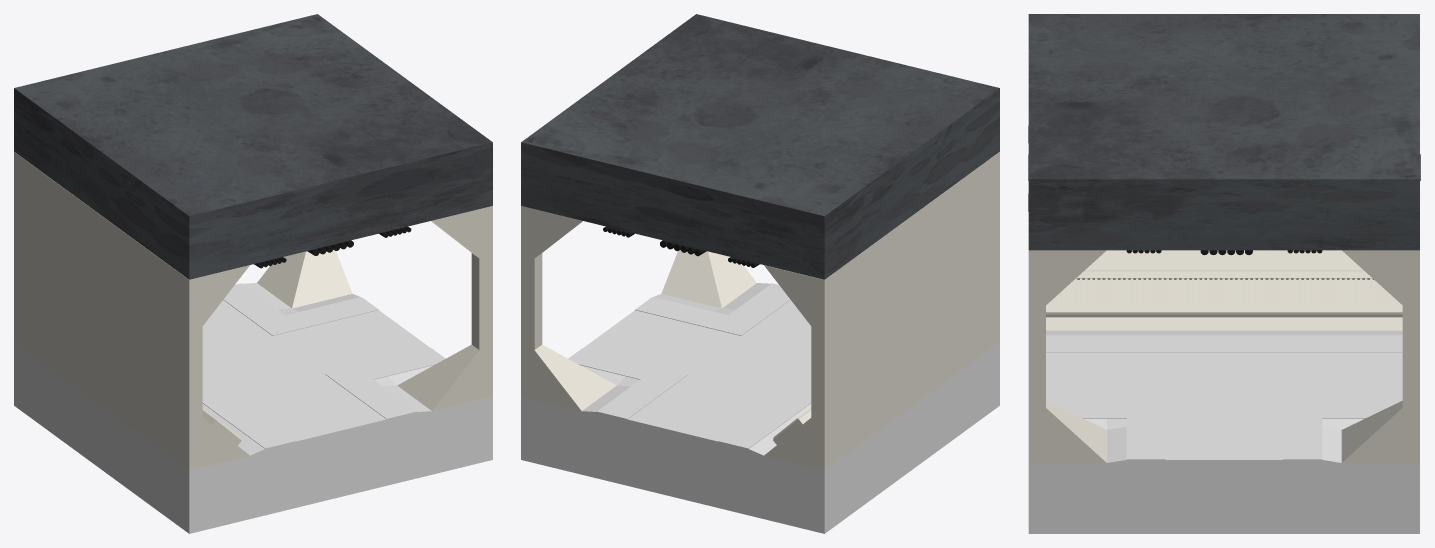
Rendered from Hallway Connector3.fbx.
The picture shows the model from 3 angles, left to right: view 1: azimuth 30°, elevation 25°; view 2: azimuth 150°, elevation 25°; view 3: azimuth 270°, elevation 25°; orthographic projection. The views are drawn at different scales.
Parts seen in each view (by area): view 1: Cube.015, Cube.046, Cube.029, Cable_Small.020; view 2: Cube.015, Cube.046, Cube.029, Cable_Small.020; view 3: Cube.015, Cube.046, Cube.029, Cube.027, Cable_Small.018.
Part boxes in pixels (x1,y1,x2,y2): Cube.015: (14, 14, 492, 279); Cube.046: (14, 283, 492, 533); Cube.029: (14, 152, 492, 470); Cable_Small.020: (254, 226, 411, 268); Cube.015: (521, 14, 999, 279); Cube.046: (521, 283, 999, 533); Cube.029: (521, 152, 999, 470); Cable_Small.020: (603, 226, 759, 267); Cube.015: (1028, 14, 1419, 250); Cube.046: (1028, 330, 1419, 533); Cube.029: (1028, 250, 1419, 462); Cube.027: (1046, 270, 1402, 317); Cable_Small.018: (1126, 250, 1322, 255).
Size of the model in its own units: 1000 by 1000 by 1003.
